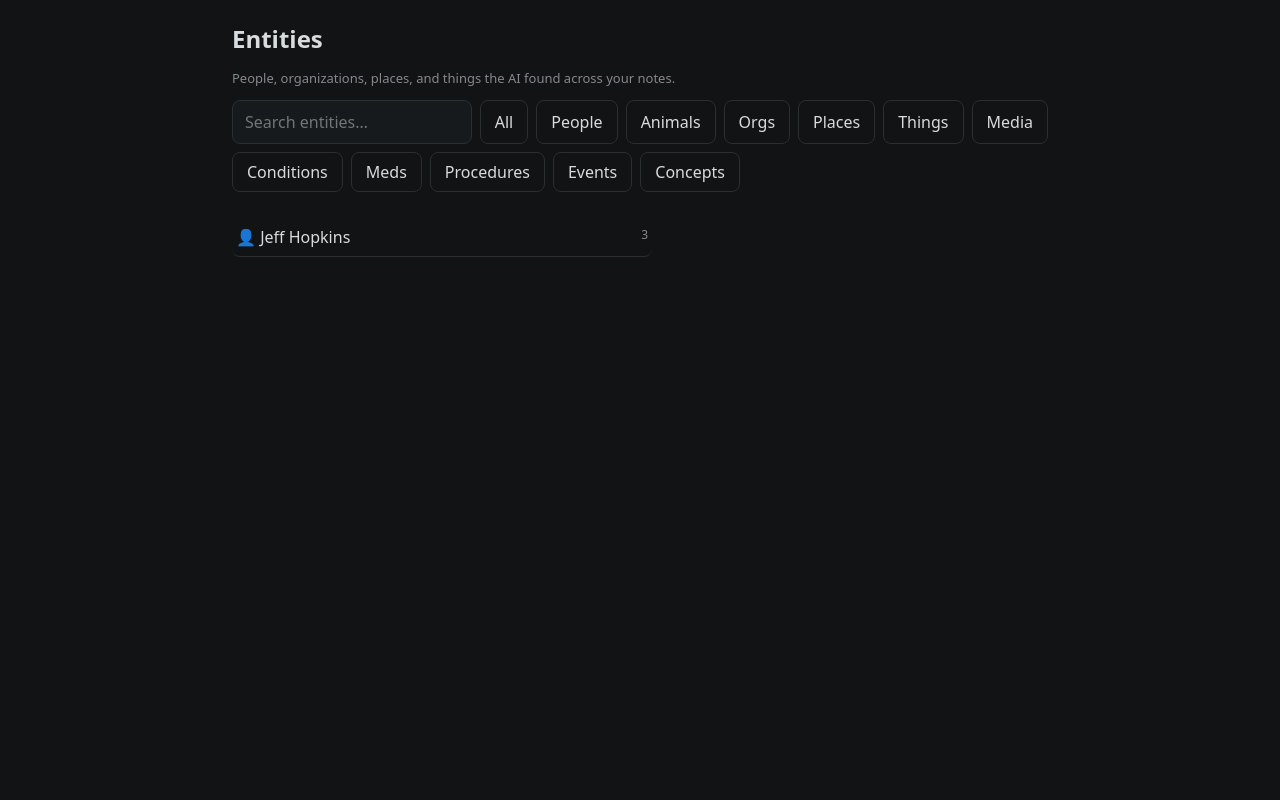
Test: EntitiesPage › surfaces an error when an identity op fails and keeps the detail open
Click the button "👤 Jeff Hopkins 3" at (305, 237), box [232, 218, 652, 257]
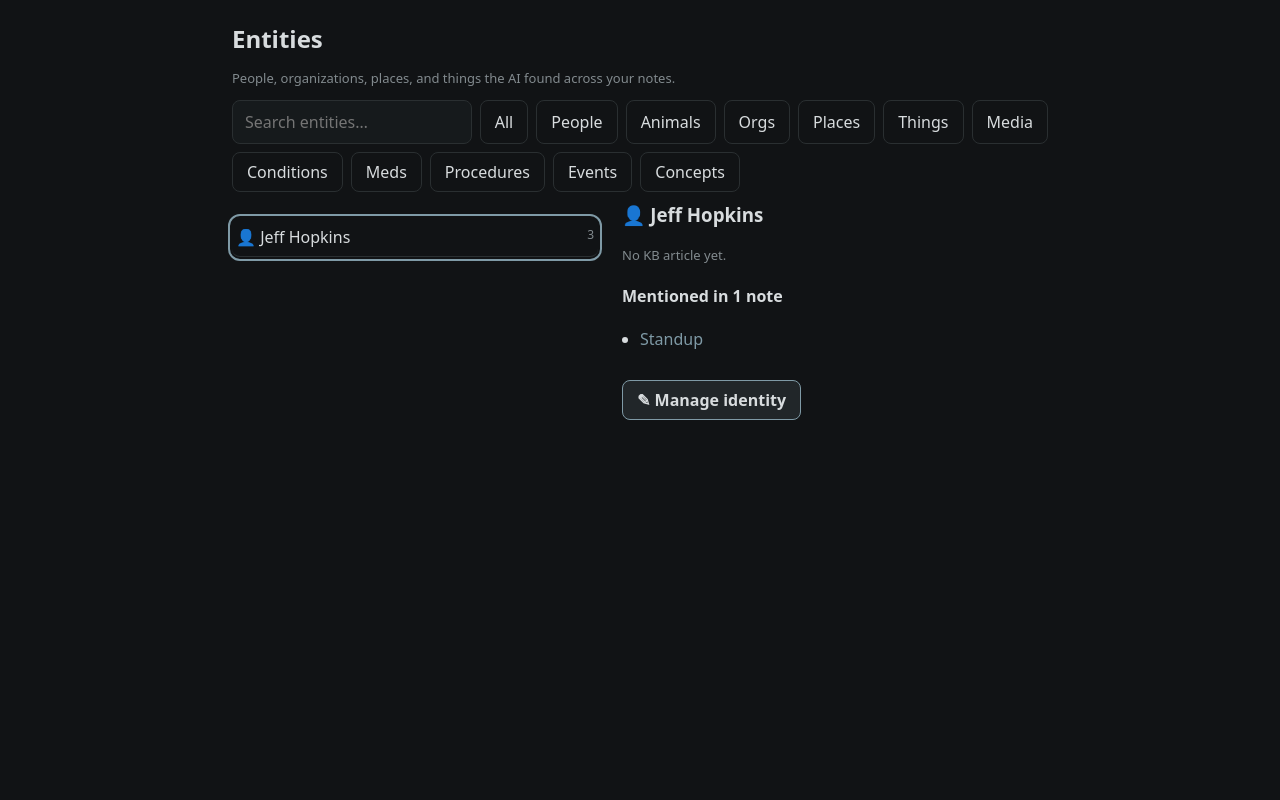
Now the heading "👤 Jeff Hopkins" is shown, box [622, 202, 763, 227]
Click the button "✎ Manage identity" at (712, 400), box [622, 380, 801, 420]
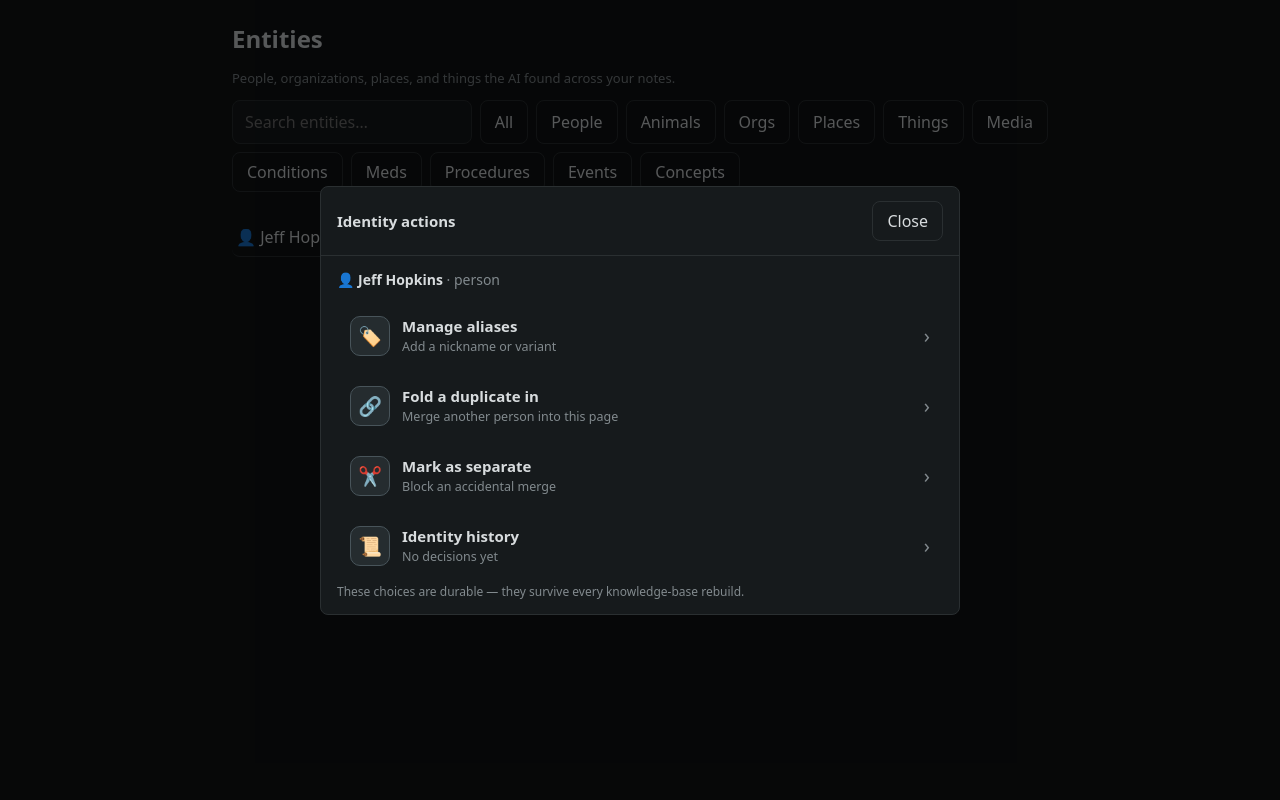
Click the button "🏷️ Manage aliases Add a nickname or variant ›" at (370, 336), box [337, 302, 943, 368]
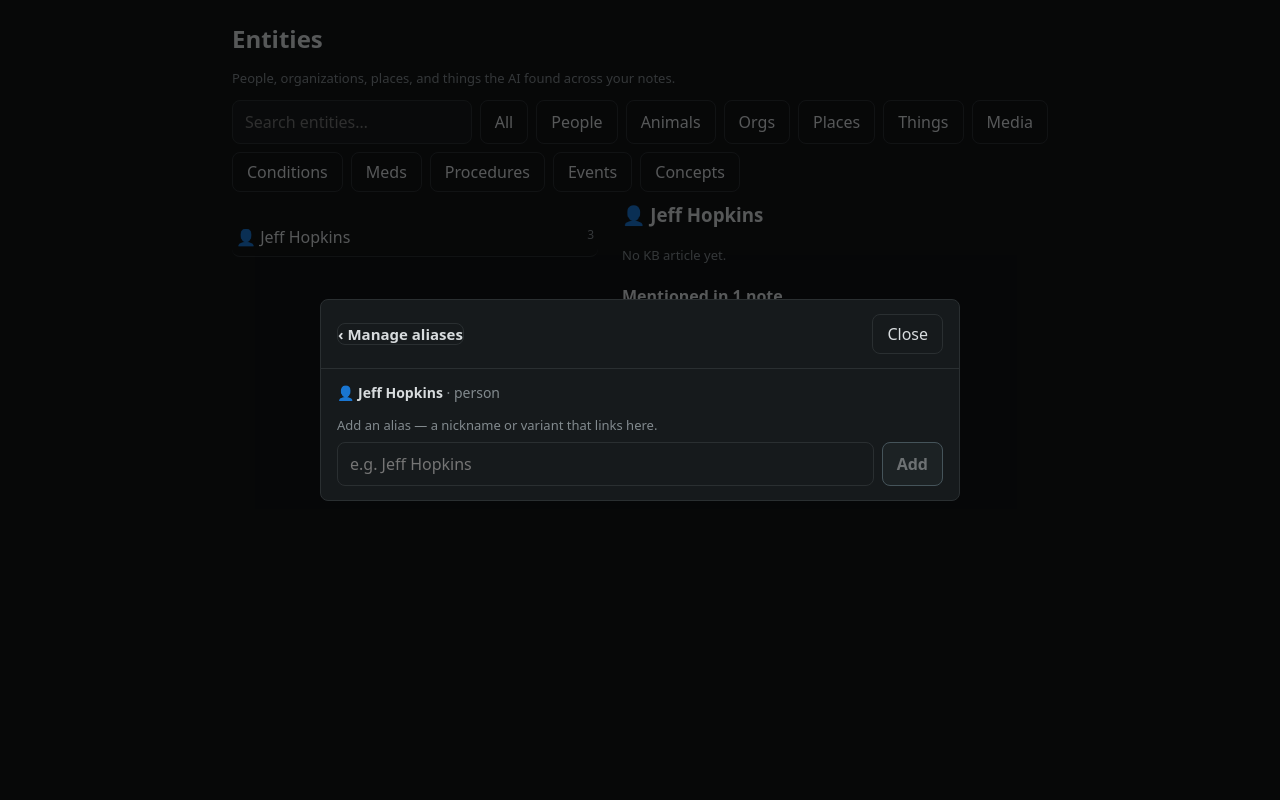
Type "Bad Alias" into the field with placeholder "e.g. Jeff Hopkins" at (605, 464), box [337, 442, 874, 486]
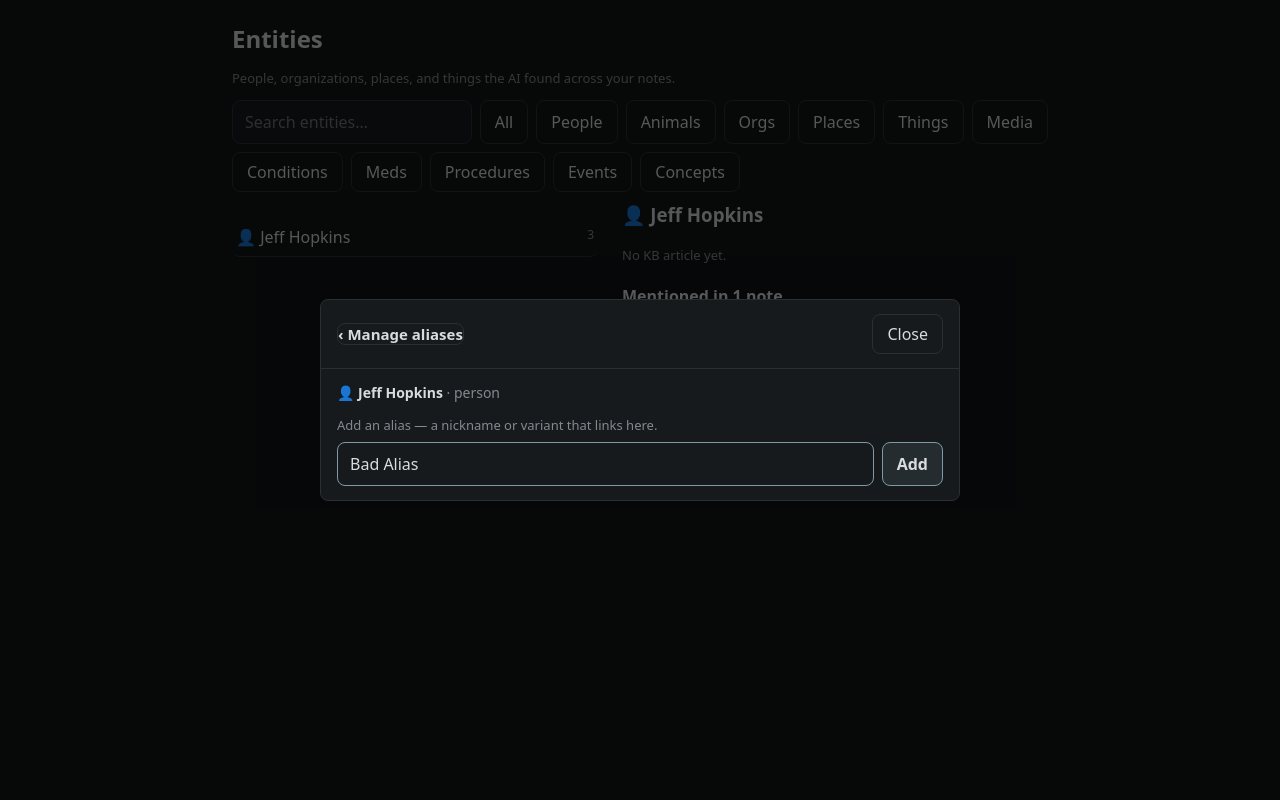
Click the button "Add" at (912, 464), box [882, 442, 943, 486]
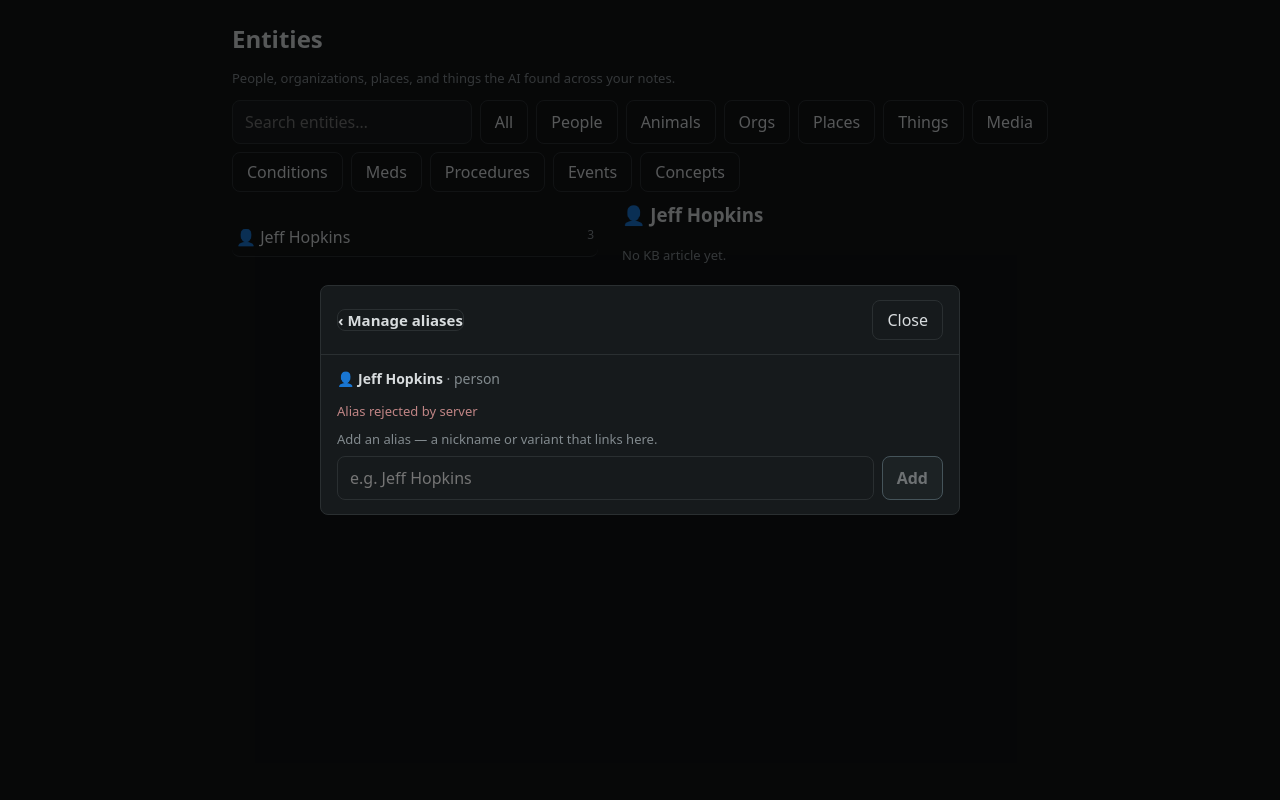
Now the button "Add" is shown, box [882, 456, 943, 500]
Now the text "Alias rejected by server" is shown, box [337, 402, 478, 420]
